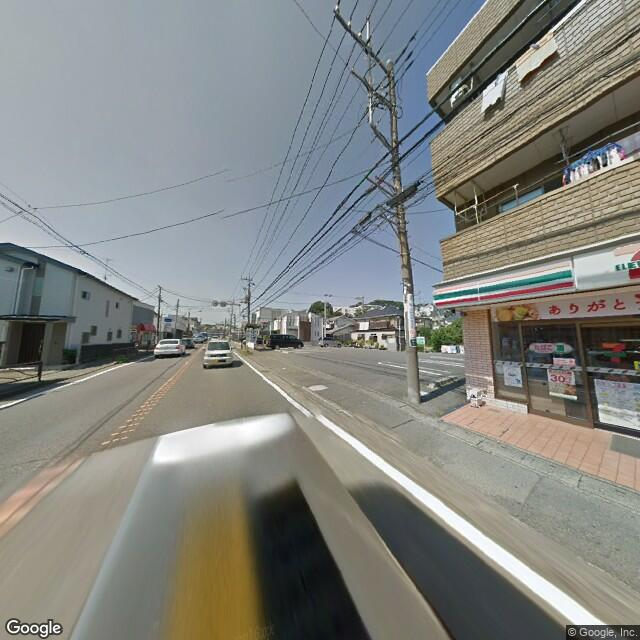7-eleven: (432, 237, 640, 314)
